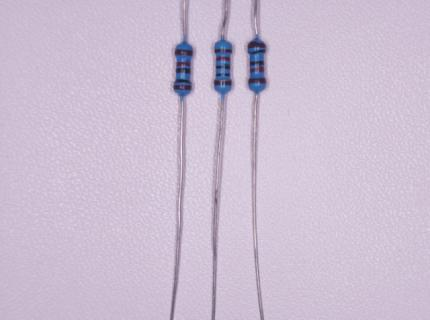Black band: (176, 68, 191, 74), (249, 49, 266, 54), (216, 64, 231, 69), (175, 79, 191, 83), (216, 73, 230, 77), (250, 61, 264, 65)
Brown band: (247, 41, 267, 48), (175, 49, 193, 56), (248, 78, 266, 84), (214, 49, 233, 54), (173, 85, 192, 90), (214, 81, 232, 86)
Red band: (250, 67, 265, 73), (176, 62, 191, 67), (216, 56, 230, 61)
